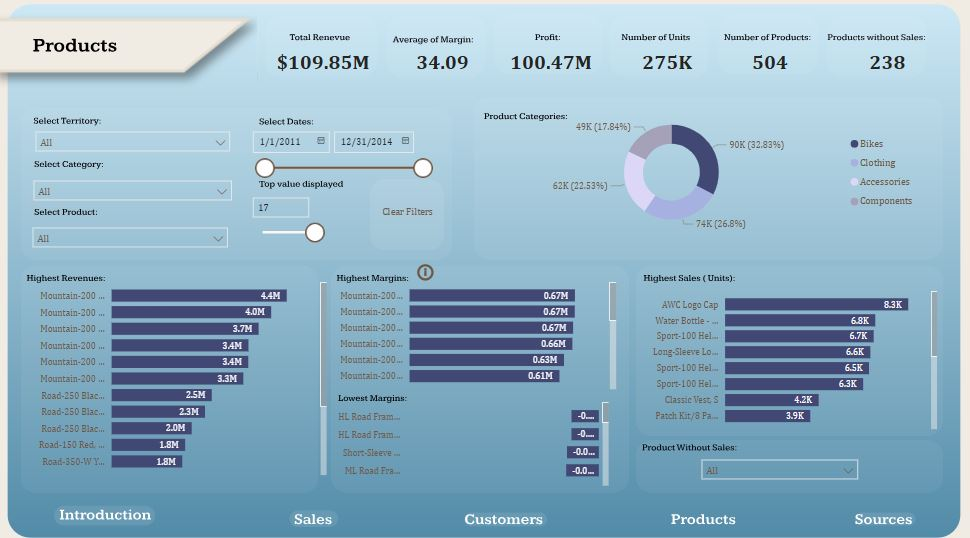

This screenshot's page, from the dashboard's own definition file:
{"tool":"powerbi","page":{"name":"Product","canvas":[1280,720],"ordinal":3},"visuals":[{"type":"actionButton","box":[1123,659,95.2,36.9],"z":1000},{"type":"actionButton","box":[82.5,662,123.8,36.9],"z":2000},{"type":"actionButton","box":[383.3,661.1,67.8,36.7],"z":3000},{"type":"actionButton","box":[603.3,662.2,124.4,36.7],"z":4000},{"type":"slicer","fields":{"Values":["Parametr.Parametr"]},"box":[322.2,251.1,129.1,81.7],"z":5000},{"type":"barChart","fields":{"Category":["Product.ProductName"],"Y":["_Measure.TopN Filtered Sales"]},"box":[35.7,360.4,402.1,271.2],"z":6000},{"type":"clusteredBarChart","fields":{"Y":["_Measure.TopN Filtered Units"],"Category":["Product.ProductName"]},"box":[844.6,372.3,396.1,198.7],"z":7000},{"type":"clusteredBarChart","fields":{"Category":["Product.ProductName"],"Y":["_Measure.TopN Filtered Margin"]},"box":[431.8,360.4,386.6,158.2],"z":8000},{"type":"slicer","fields":{"Values":["Product.ProductName"]},"box":[35.7,291.4,277.2,41.6],"z":9000},{"type":"slicer","fields":{"Values":["ProductCategory.CategoryName"]},"box":[36.9,228.4,280.7,38.1],"z":10000},{"type":"slicer","fields":{"Values":["calendar.Date"]},"box":[322.2,164.4,257.8,74.4],"z":11000},{"type":"actionButton","box":[492.5,240.3,94,77.3],"z":12000},{"type":"donutChart","fields":{"Category":["ProductCategory.CategoryName"],"Y":["Sum(SalesOrderDetail.OrderQty)"]},"box":[645.9,143.9,572.2,168.9],"z":13000},{"type":"actionButton","box":[547,345,39,30],"z":14000},{"type":"card","fields":{"Values":["_Measure.AllSalesProductSum"]},"box":[345.7,56.6,163.6,52.5],"z":15000},{"type":"card","fields":{"Values":["_Measure.AverageMargin"]},"box":[523,49.3,125,67],"z":16000},{"type":"card","fields":{"Values":["_Measure.All profit"]},"box":[646,44.3,163,77],"z":17000},{"type":"card","fields":{"Values":["_Measure.NumberOfProducts"]},"box":[958,40.8,116,84],"z":18000},{"type":"card","fields":{"Values":["_Measure.NumberOfUnits"]},"box":[817,51.8,127,62],"z":19000},{"type":"clusteredBarChart","fields":{"Y":["_Measure.FlopN Filtered Sales"],"Category":["Product.ProductName"]},"box":[431.8,518.7,377.1,127.3],"z":20000},{"type":"slicer","fields":{"Values":["Product.ProductName"]},"box":[916,596,226,50],"z":21000},{"type":"card","fields":{"Values":["Customer.NoSalesProductsCount"]},"box":[1131,50.8,80,64],"z":22000},{"type":"slicer","fields":{"Values":["Territory.CountryRegionCode"]},"box":[39.3,164.2,276,50],"z":23000}]}

Visuals, with their boxes in screenshot pixels (x1, y1, x2, y2), scaled from the page's 1280x720 canvas onto the 970x538 screenshot:
actionButton: (left=851, top=492, right=923, bottom=520)
actionButton: (left=63, top=495, right=156, bottom=522)
actionButton: (left=290, top=494, right=342, bottom=521)
actionButton: (left=457, top=495, right=551, bottom=522)
slicer - Parametr.Parametr: (left=244, top=188, right=342, bottom=249)
barChart - Product.ProductName x _Measure.TopN Filtered Sales: (left=27, top=269, right=332, bottom=472)
clusteredBarChart - _Measure.TopN Filtered Units x Product.ProductName: (left=640, top=278, right=940, bottom=427)
clusteredBarChart - Product.ProductName x _Measure.TopN Filtered Margin: (left=327, top=269, right=620, bottom=388)
slicer - Product.ProductName: (left=27, top=218, right=237, bottom=249)
slicer - ProductCategory.CategoryName: (left=28, top=171, right=241, bottom=199)
slicer - calendar.Date: (left=244, top=123, right=440, bottom=178)
actionButton: (left=373, top=180, right=444, bottom=237)
donutChart - ProductCategory.CategoryName x Sum(SalesOrderDetail.OrderQty): (left=489, top=108, right=923, bottom=234)
actionButton: (left=415, top=258, right=444, bottom=280)
card - _Measure.AllSalesProductSum: (left=262, top=42, right=386, bottom=82)
card - _Measure.AverageMargin: (left=396, top=37, right=491, bottom=87)
card - _Measure.All profit: (left=490, top=33, right=613, bottom=91)
card - _Measure.NumberOfProducts: (left=726, top=30, right=814, bottom=93)
card - _Measure.NumberOfUnits: (left=619, top=39, right=715, bottom=85)
clusteredBarChart - _Measure.FlopN Filtered Sales x Product.ProductName: (left=327, top=388, right=613, bottom=483)
slicer - Product.ProductName: (left=694, top=445, right=865, bottom=483)
card - Customer.NoSalesProductsCount: (left=857, top=38, right=918, bottom=86)
slicer - Territory.CountryRegionCode: (left=30, top=123, right=239, bottom=160)
